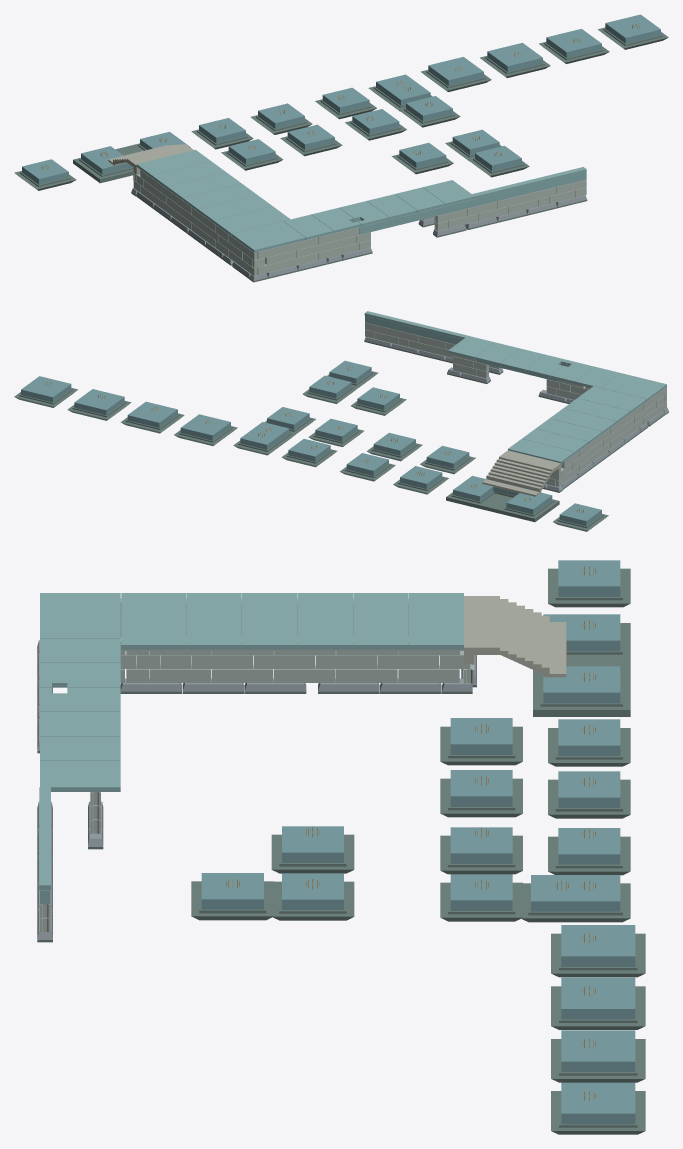
File: canopy-sections.glb
3 views of the same model, one above another, from view 1: azimuth 30°, elevation 25°; view 2: azimuth 150°, elevation 25°; view 3: azimuth 270°, elevation 25° (orthographic). The views are drawn at different scales.
Parts seen in each view (by area): view 1: Фм1 (×11), Фм4 (×4), Пм1.1 (×4), Пм2.1 (×3), Пм4, Фм2, Бм2, Пм3, Фм3, Пм1.2, Лм1, Пм5 (+5 smaller); view 2: Фм1 (×11), Фм4 (×4), Пм1.1 (×4), Лм1, Пм2.1 (×3), Фм2, ЩП, Пм4, Пм3, Фм3, Пм1.2, Бм2 (+4 smaller); view 3: Фм1 (×11), ЩП (×17), Фм4 (×4), Пм1.1 (×4), СБ1 (×9), Лм1, Пм2.1 (×3), Фм2, Пм4, Пм3, Фм3, Пм1.2 (+5 smaller).
Part boxes in pixels (x1,y1,x2,y2): Фм1 (×11): [22, 87, 521, 184]; Фм4 (×4): [428, 14, 660, 85]; Пм1.1 (×4): [136, 149, 272, 222]; Пм2.1 (×3): [283, 187, 444, 239]; Пм4: [232, 221, 305, 252]; Фм2: [81, 131, 190, 174]; Бм2: [448, 172, 586, 212]; Пм3: [213, 206, 290, 236]; Фм3: [376, 74, 430, 105]; Пм1.2: [167, 172, 241, 200]; Лм1: [108, 144, 193, 174]; Пм5: [423, 180, 474, 205]; Фм1 (×11): [267, 360, 601, 526]; Фм4 (×4): [21, 376, 230, 440]; Пм1.1 (×4): [508, 398, 630, 463]; Лм1: [482, 450, 560, 496]; Пм2.1 (×3): [475, 342, 619, 387]; Фм2: [453, 476, 552, 514]; ЩП: [446, 492, 559, 522]; Пм4: [601, 373, 666, 400]; Пм3: [577, 386, 646, 413]; Фм3: [240, 422, 289, 449]; Пм1.2: [536, 418, 602, 443]; Бм2: [365, 315, 462, 344]; Фм1 (×11): [201, 560, 620, 910]; ЩП (×17): [191, 568, 645, 1134]; Фм4 (×4): [561, 925, 635, 1124]; Пм1.1 (×4): [186, 593, 463, 649]; СБ1 (×9): [149, 651, 459, 682]; Лм1: [464, 596, 566, 677]; Пм2.1 (×3): [40, 638, 120, 760]; Фм2: [543, 614, 620, 703]; Пм4: [40, 593, 120, 638]; Пм3: [121, 593, 185, 649]; Фм3: [531, 875, 620, 911]; Пм1.2: [297, 593, 352, 649].
Size of the model in its own units: 50.93 by 2.42 by 23.5.
